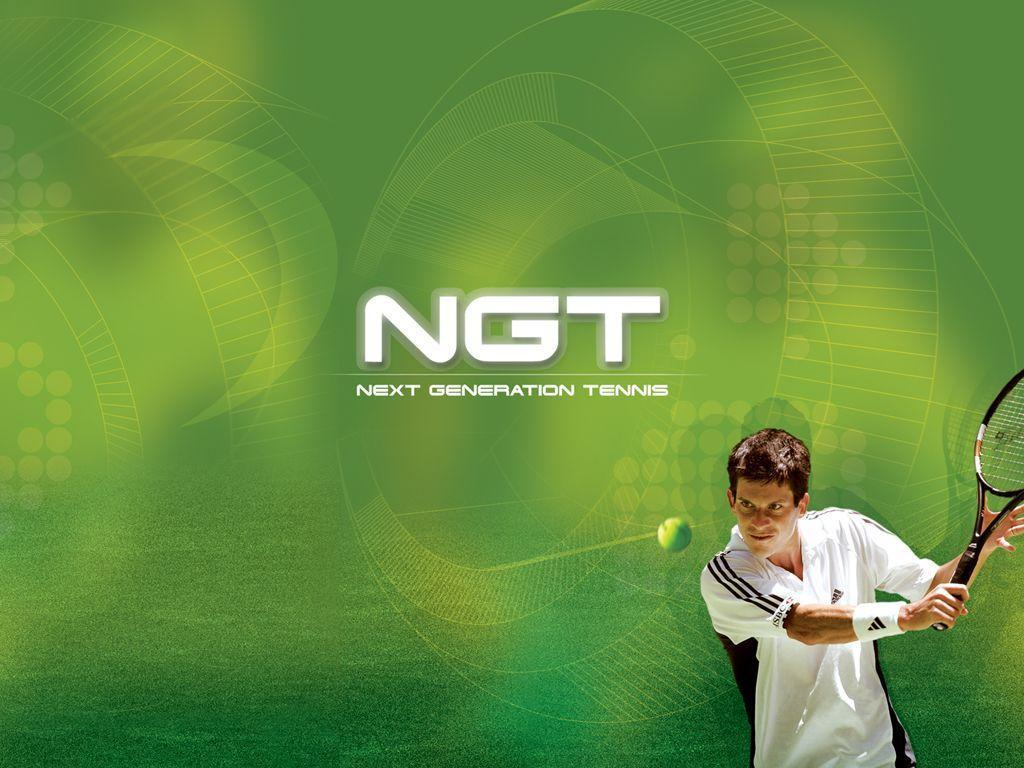face: (731, 473, 797, 561)
